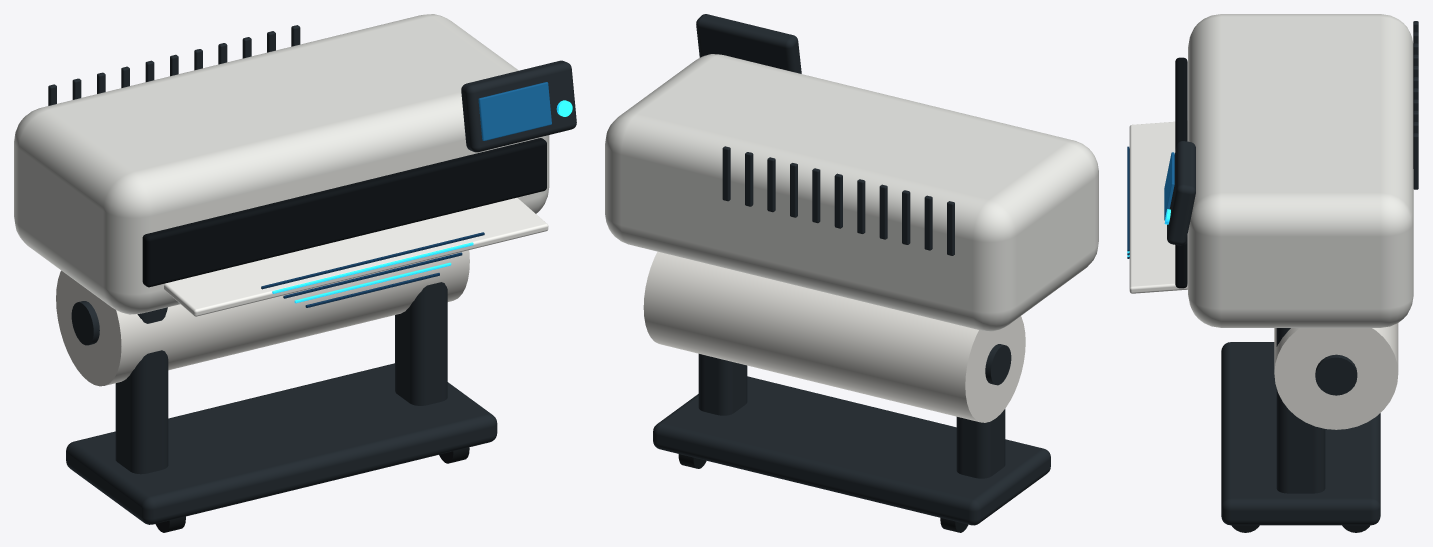
File: large-format-plotter.glb
3 views of the same model, side by side, from view 1: azimuth 30°, elevation 25°; view 2: azimuth 150°, elevation 25°; view 3: azimuth 270°, elevation 25° (orthographic). The views are drawn at different scales.
Visible parts, largest first — view 1: Wide-format print engine, Plotter stand base, Output aperture, Paper roll, Printed plan, Plotter stand leg (×2), Touch console, Premium large-format design plotter, Drawing detail (×3), Roll spindle; view 2: Wide-format print engine, Paper roll, Plotter stand base, Plotter stand leg (×2), Touch console, Roll spindle; view 3: Wide-format print engine, Plotter stand base, Paper roll, Printed plan, Plotter stand leg, Touch console, Output aperture, Roll spindle, Premium large-format design plotter.
Boxes of the visible parts, bbox=[...] form: Wide-format print engine: bbox=[14, 14, 549, 314]; Plotter stand base: bbox=[66, 363, 497, 524]; Output aperture: bbox=[142, 138, 546, 287]; Paper roll: bbox=[56, 250, 469, 386]; Printed plan: bbox=[164, 197, 548, 316]; Plotter stand leg (×2): bbox=[115, 282, 447, 474]; Touch console: bbox=[461, 60, 576, 152]; Premium large-format design plotter: bbox=[478, 82, 572, 140]; Drawing detail (×3): bbox=[261, 232, 484, 298]; Roll spindle: bbox=[71, 301, 99, 345]; Wide-format print engine: bbox=[605, 54, 1098, 331]; Paper roll: bbox=[643, 251, 1025, 422]; Plotter stand base: bbox=[653, 376, 1050, 525]; Plotter stand leg (×2): bbox=[698, 354, 1005, 478]; Touch console: bbox=[696, 14, 801, 73]; Roll spindle: bbox=[985, 344, 1011, 385]; Wide-format print engine: bbox=[1188, 14, 1413, 327]; Plotter stand base: bbox=[1221, 342, 1380, 525]; Paper roll: bbox=[1274, 323, 1398, 429]; Printed plan: bbox=[1129, 121, 1187, 293]; Plotter stand leg: bbox=[1276, 328, 1325, 493]; Touch console: bbox=[1167, 141, 1195, 245]; Output aperture: bbox=[1175, 57, 1187, 288]; Roll spindle: bbox=[1315, 354, 1357, 395]; Premium large-format design plotter: bbox=[1164, 152, 1174, 224].
Size of the model in its own units: 2.21 by 1.9 by 1.32.
